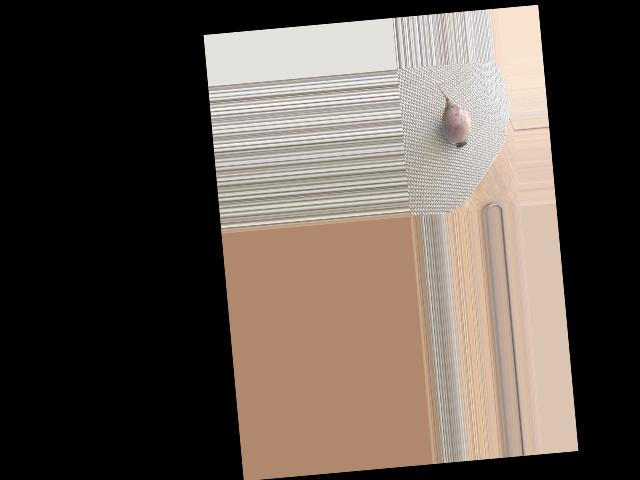beet: (430, 75, 472, 150)
